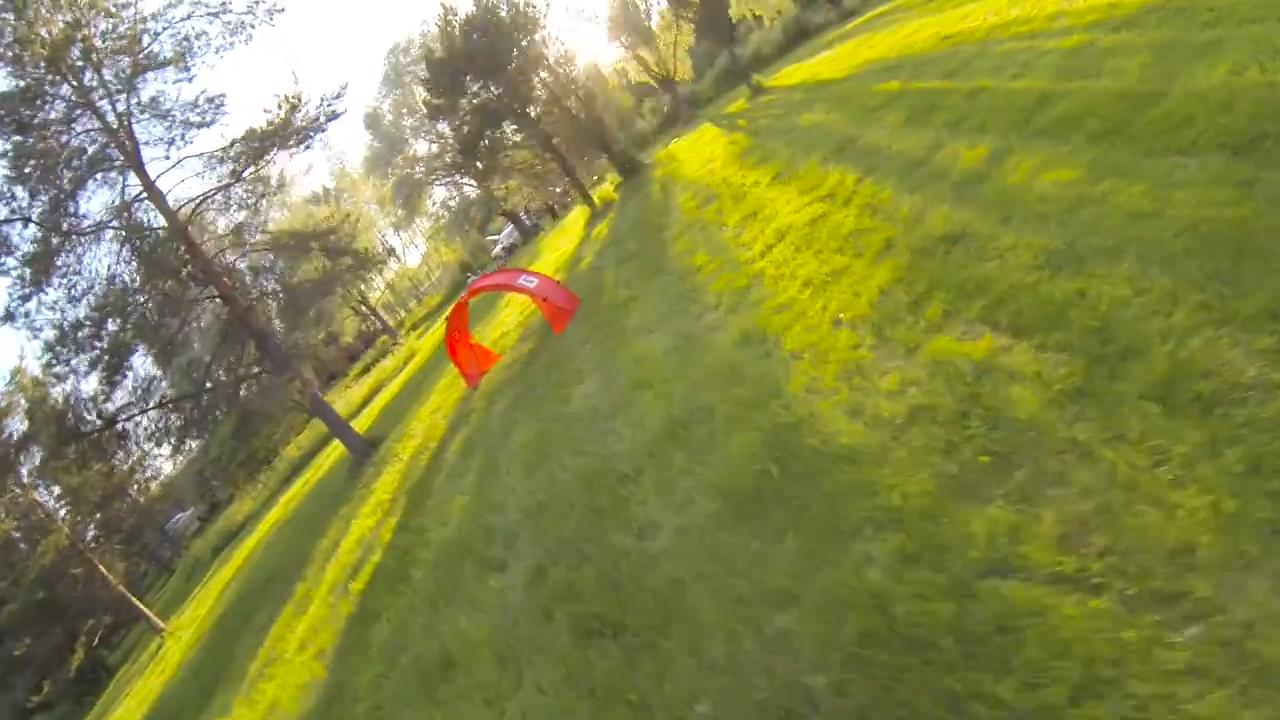gate: (438, 267, 587, 392)
